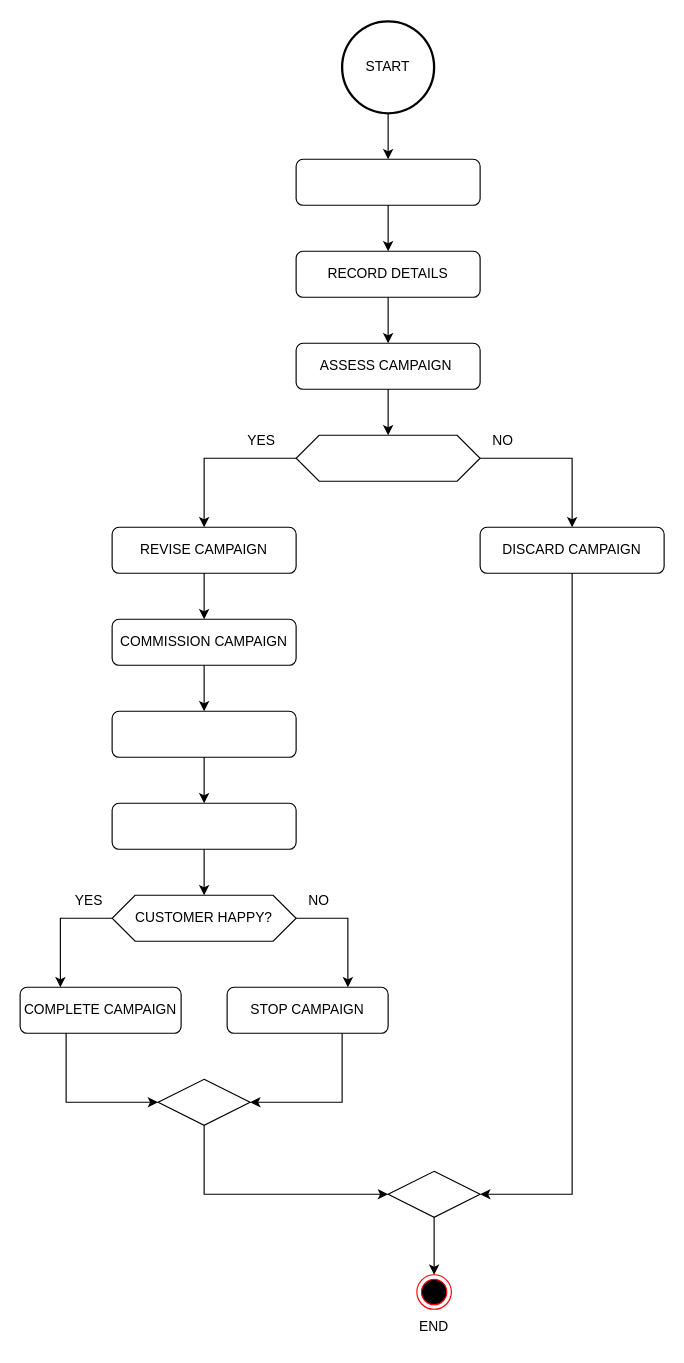
This 684x1363 diagram has some shape labels left out. The centre of each missing label's shape, as x and y in pixels:
"APPROVED?" belongs at point 387,457.
"CAMPAIGN RUN" belongs at point 203,825.
"CREATE ADVERTISE" belongs at point 203,733.
"PROPOSE CAMPAIGN" belongs at point 387,181.
